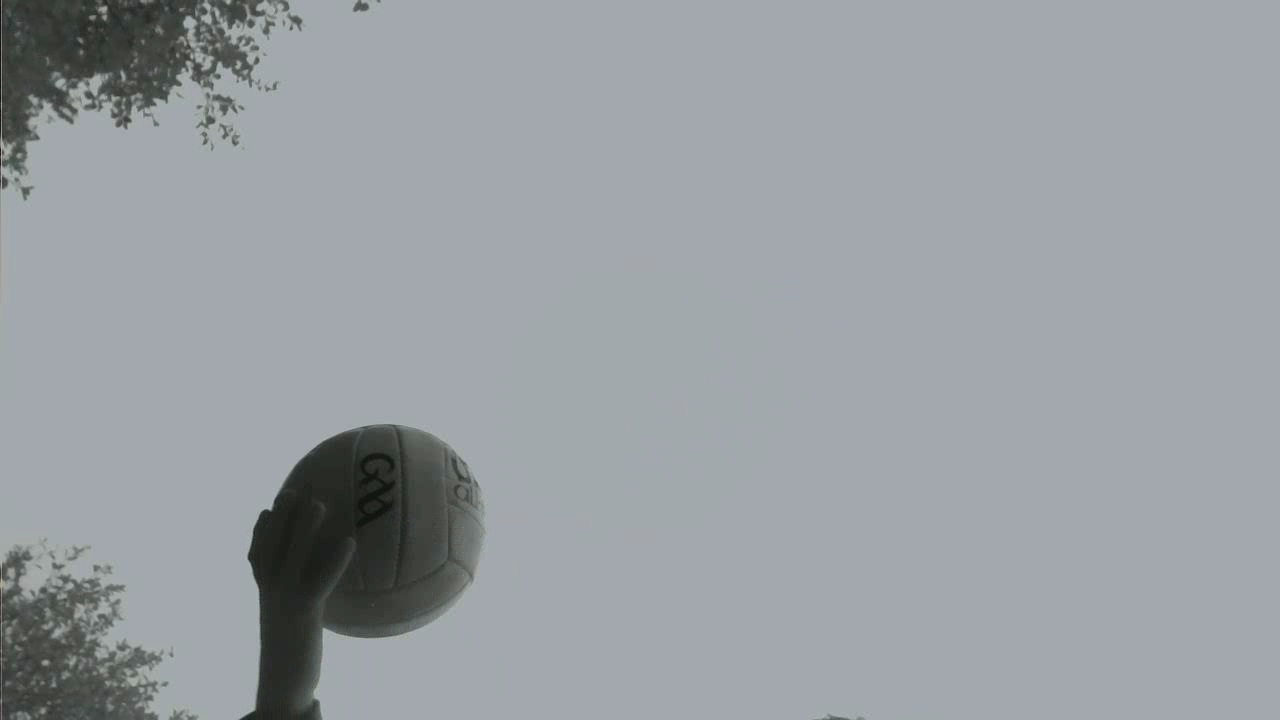Football-Spotter: (282, 424, 484, 637)
